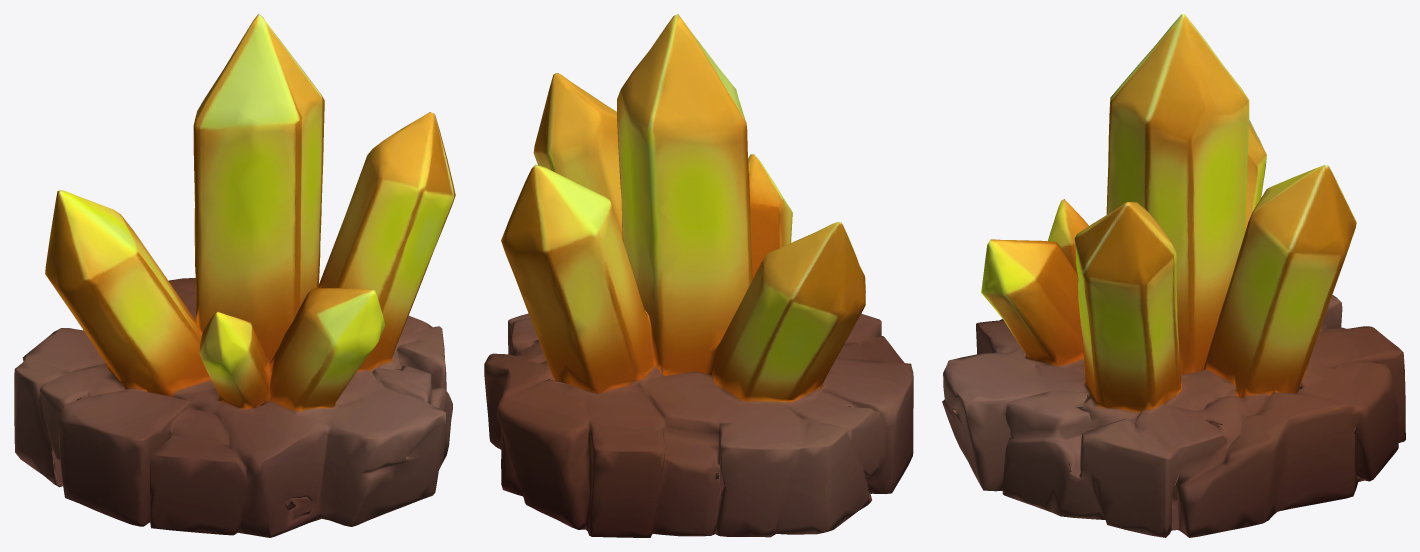
The model's file is sunstone-node.glb.
3 views of the same model, side by side, from view 1: azimuth 30°, elevation 25°; view 2: azimuth 150°, elevation 25°; view 3: azimuth 270°, elevation 25° (orthographic). The views are drawn at different scales.
Parts seen in each view (by area): view 1: world; view 2: world; view 3: world.
Part boxes in pixels (<box>): world: <box>14,14,455,537</box>; world: <box>484,14,913,537</box>; world: <box>942,14,1405,537</box>.
Size of the model in its own units: 0.9366 by 1 by 0.9591.
1 material, 1 textured.
